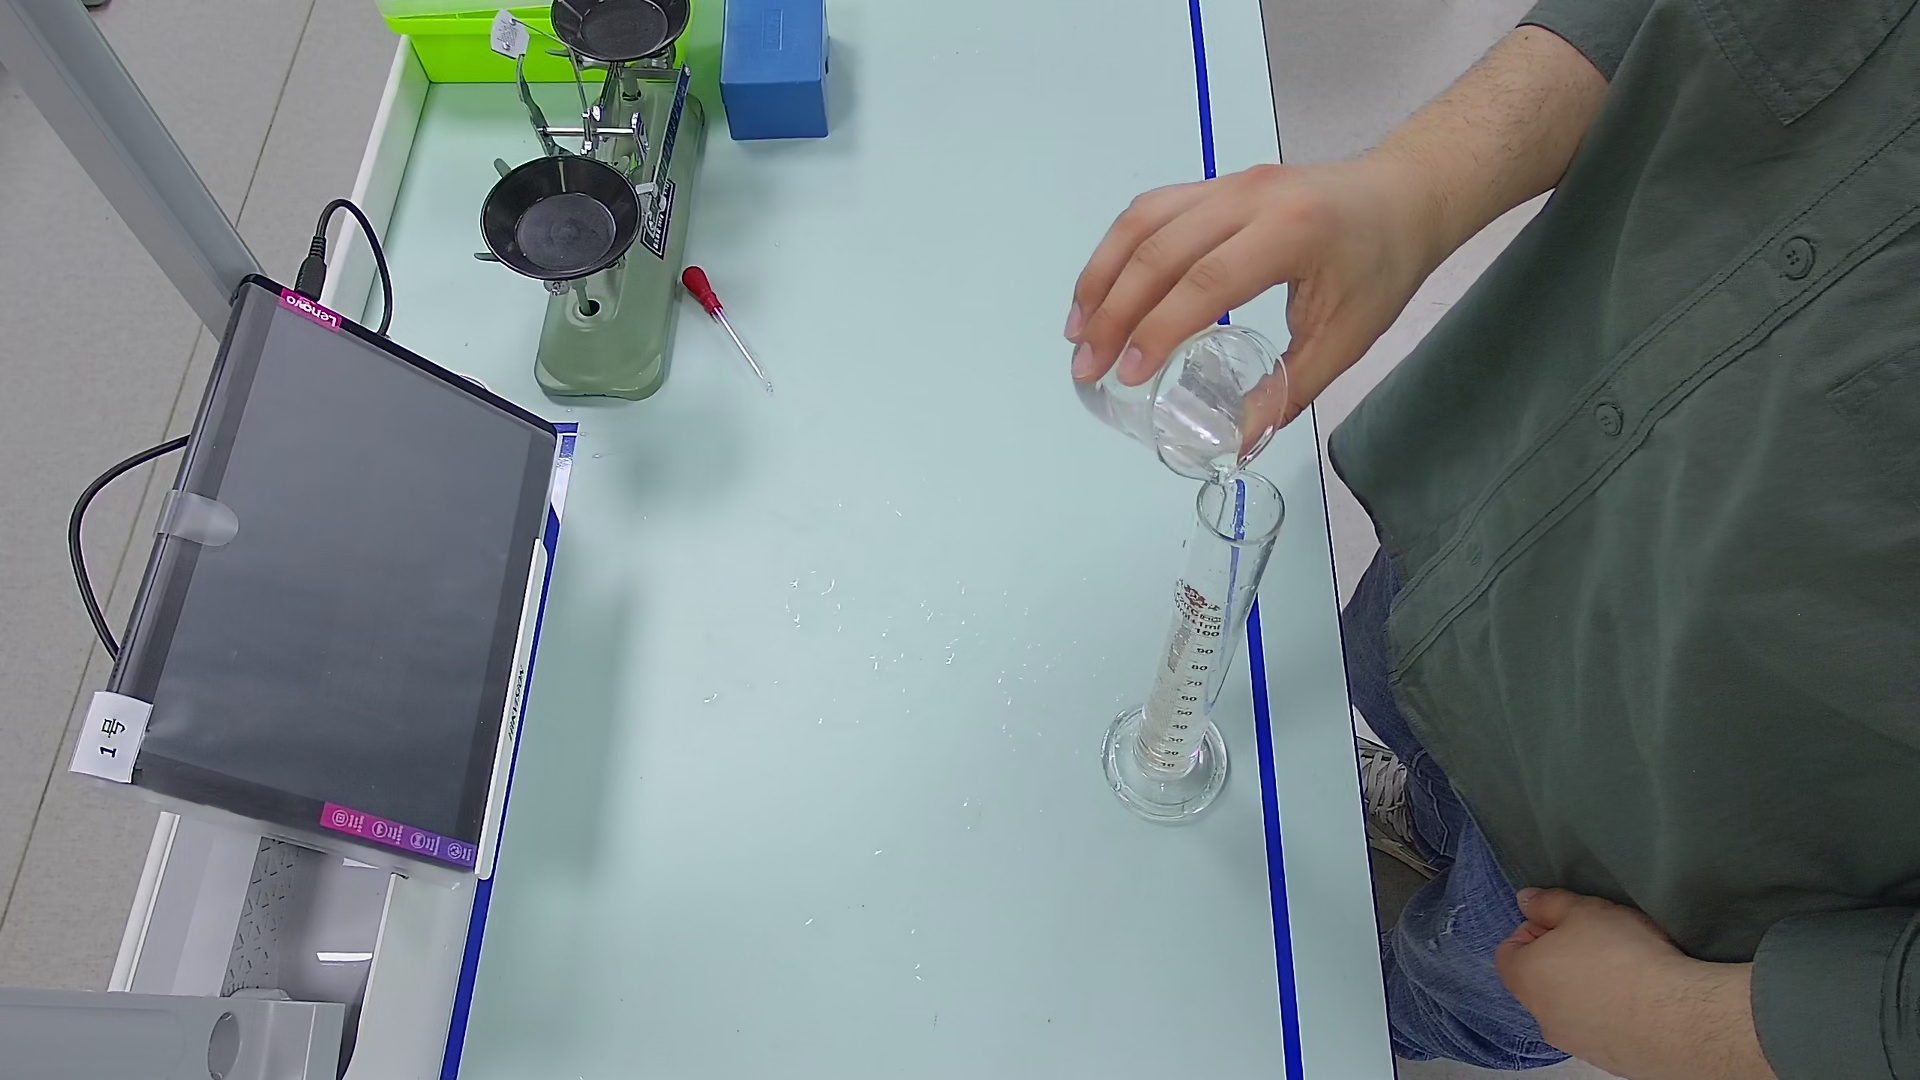bei: (1051, 298, 1290, 480)
diguan: (679, 255, 785, 405)
diguantou: (678, 261, 729, 327)
hand: (1059, 183, 1402, 431), (1489, 895, 1659, 1076)
liangdi: (1102, 704, 1238, 822)
liangtong: (1102, 469, 1290, 825)
tuo: (465, 153, 649, 278), (541, 1, 694, 65)
